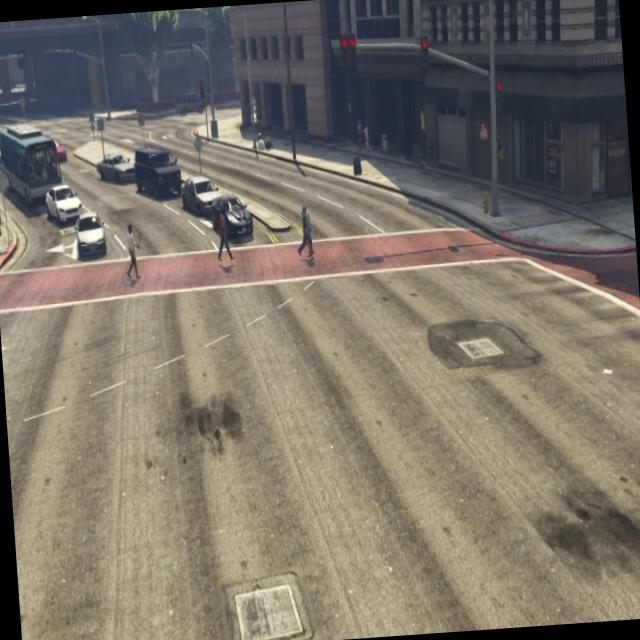Red-Signal: (335, 24, 364, 96), (416, 27, 436, 86), (492, 73, 508, 124)
